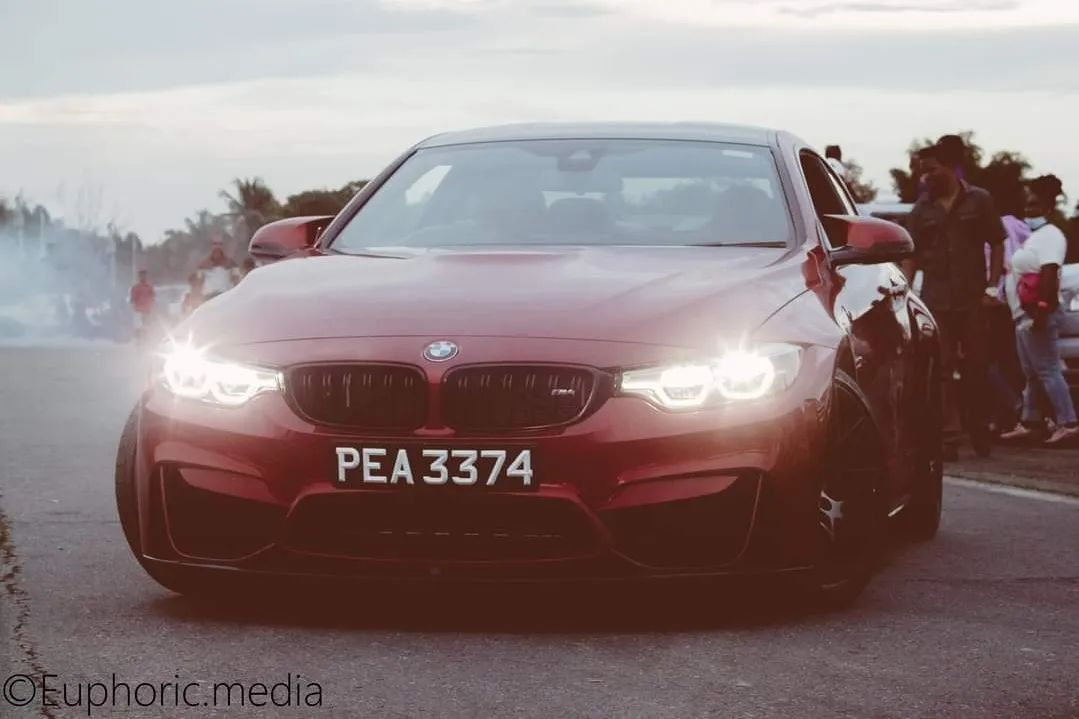License-Plate: (331, 440, 537, 487)
